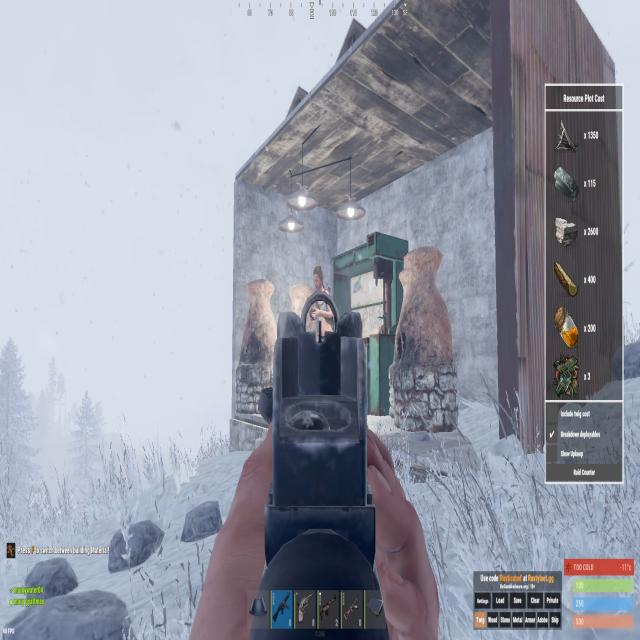Player: (311, 264, 335, 347)
